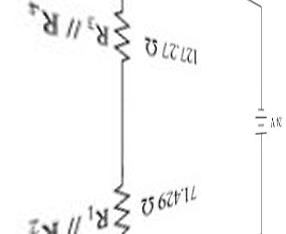resistor: (107, 3, 135, 66), (112, 171, 136, 232)
